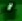black: (0, 0, 22, 21)
